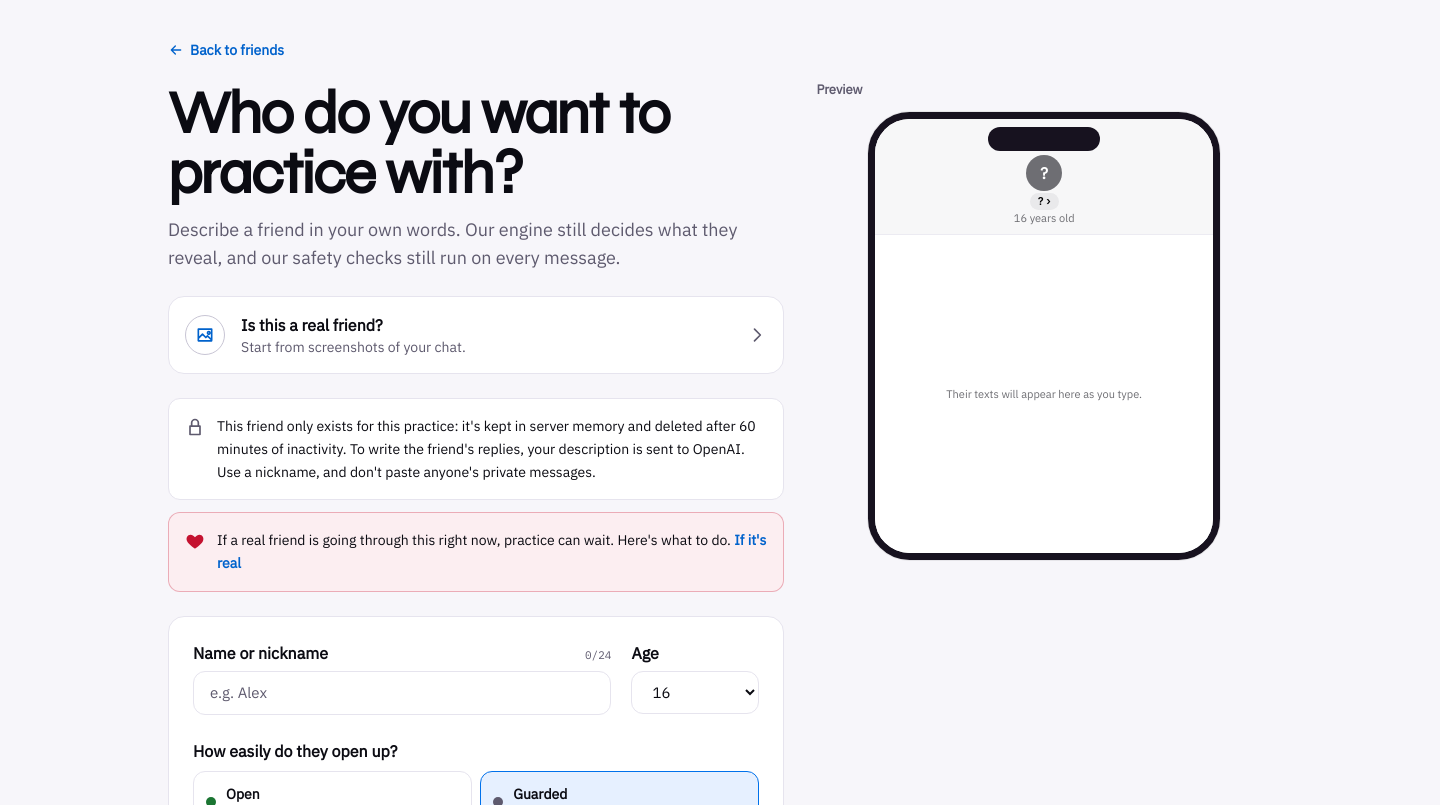
Test: Add your own friend › shows real help first when the server says real_help, then allows practice
Step 1. Type "Alex" into the field labelled "Name or nickname" → (402, 693), box [193, 671, 611, 715]
(page scrolled)
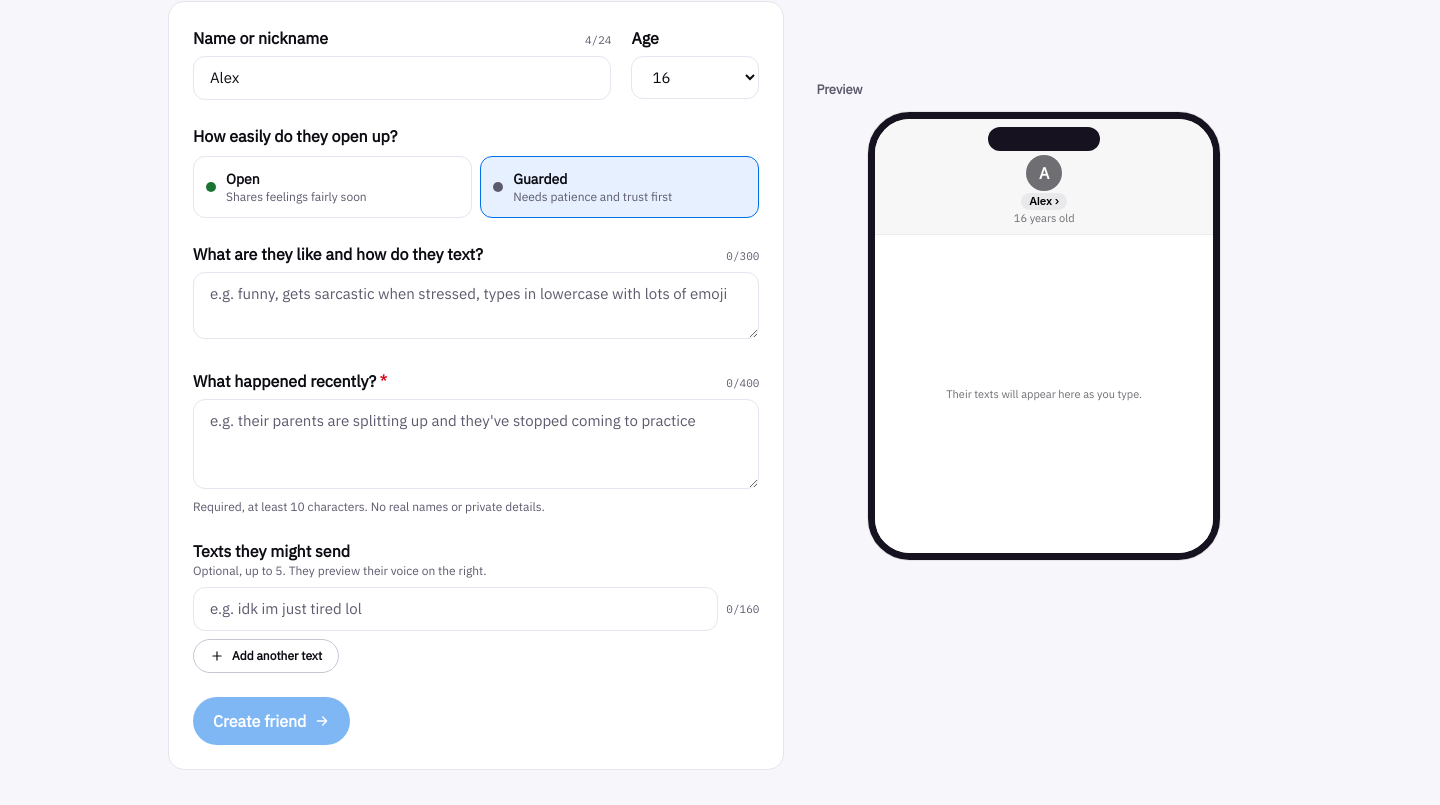
Step 2. Replace the text in the text box labelled "What happened recently? *" with "Their parents are splitting up and they stopped coming to practice." → (476, 444), box [193, 399, 759, 489]
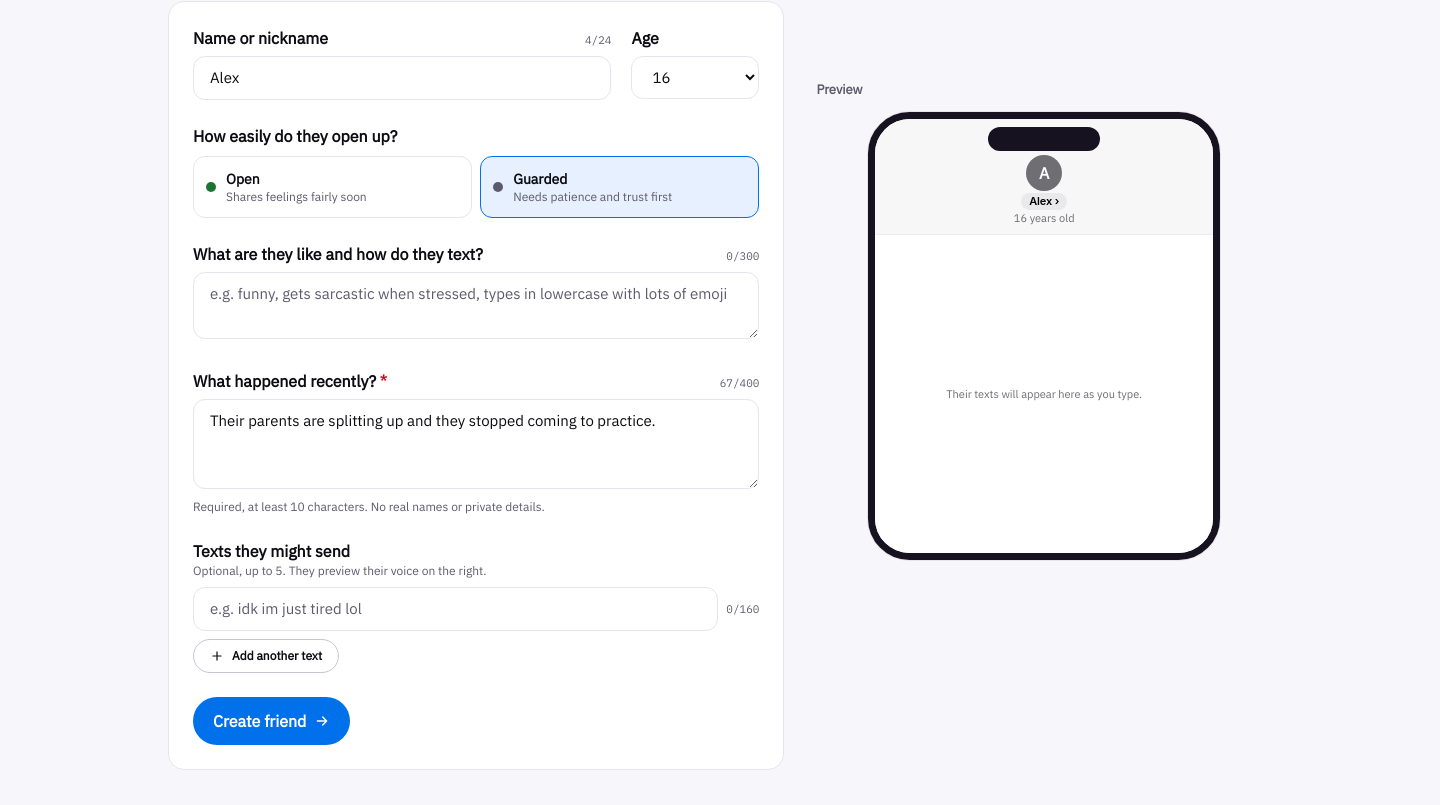
Step 3. Click the button with test id "friend-create" → (272, 721), box [193, 697, 350, 745]
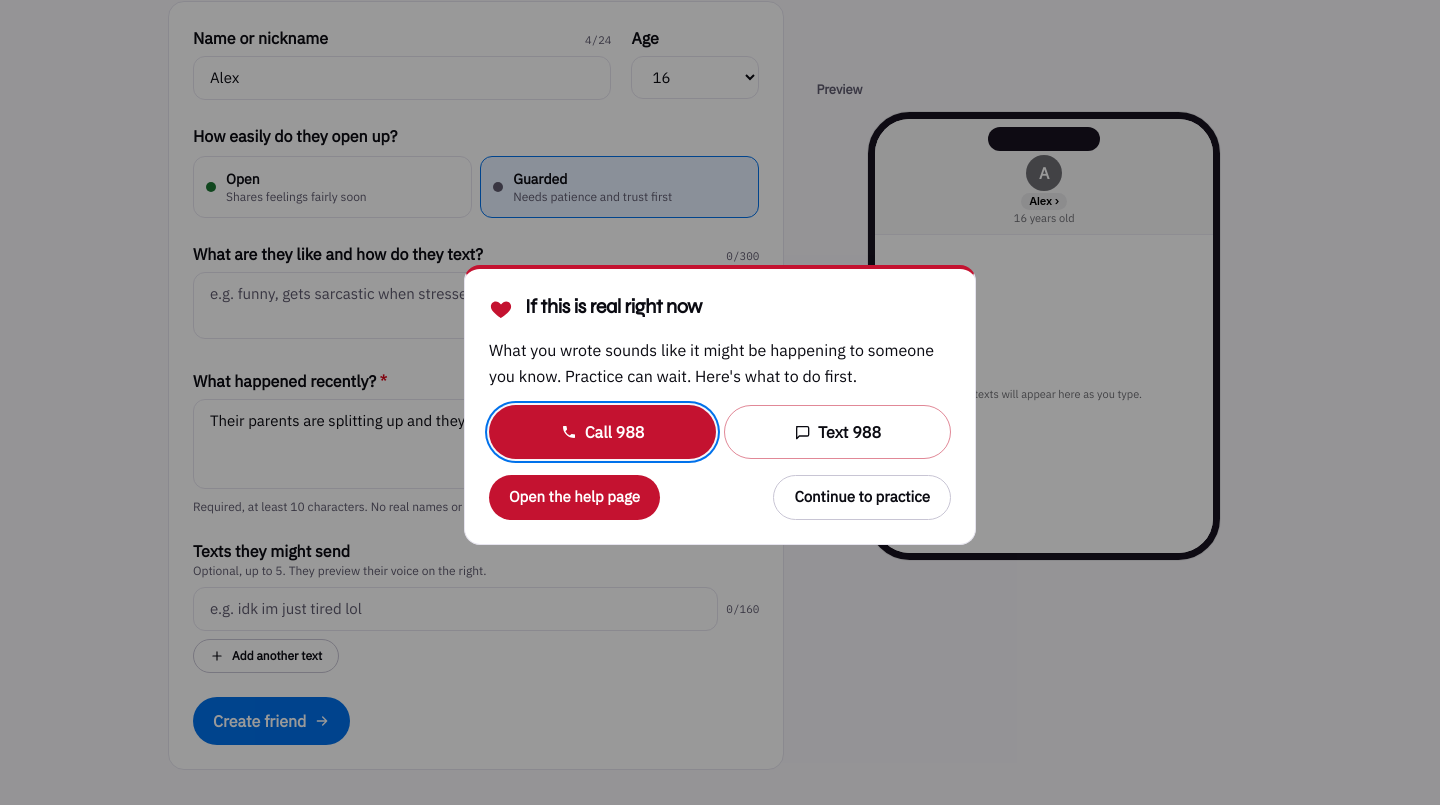
expect the element with test id "friend-real-help" is shown: met, box [489, 337, 951, 520]
Step 4. Click the button "Continue to practice" → (862, 498), box [773, 475, 951, 520]
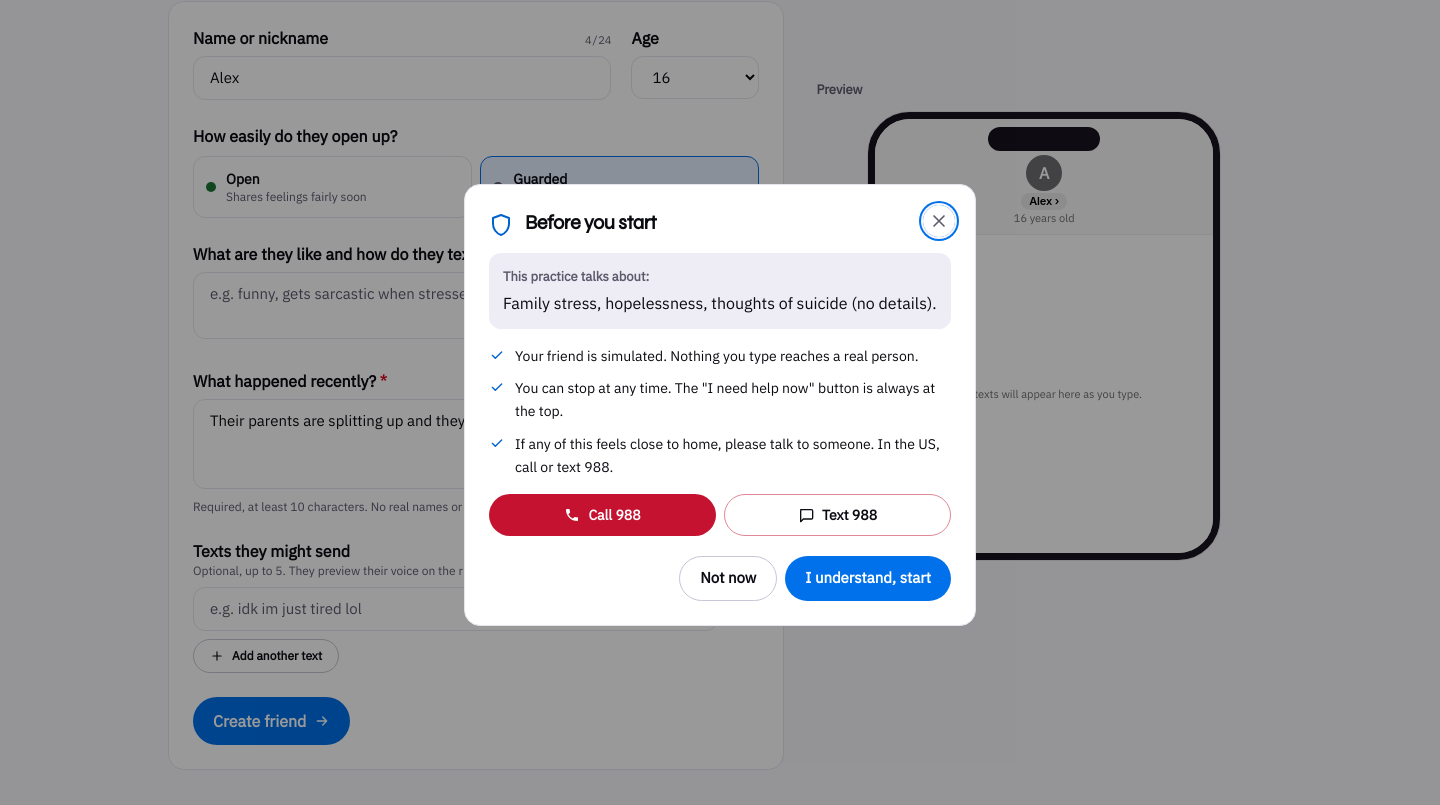
expect the element with test id "content-warning" shows "Family stress, hopelessness, thoughts of suicide (no details).": met, box [503, 293, 937, 313]
